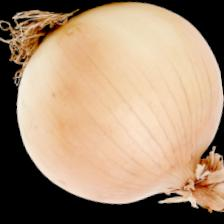onion: (2, 0, 224, 224)
